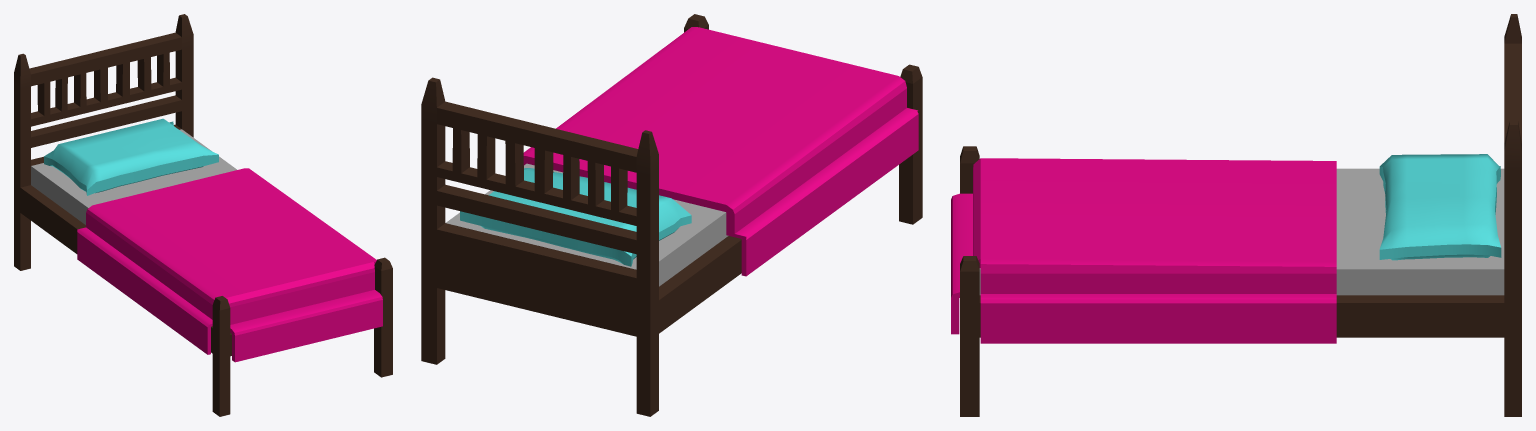
File: cama.fbx
The picture shows the model from 3 angles, left to right: view 1: azimuth 30°, elevation 25°; view 2: azimuth 150°, elevation 25°; view 3: azimuth 270°, elevation 25°; orthographic projection. The views are drawn at different scales.
Visible parts, largest first — view 1: polySurface6; view 2: polySurface6; view 3: polySurface6.
Part boxes in pixels (x1,y1,x2,y2): polySurface6: (14, 14, 392, 416); polySurface6: (421, 14, 922, 416); polySurface6: (951, 14, 1521, 416).
Bounding box in the file's own units: 6.41 × 7.18 × 12.84.
